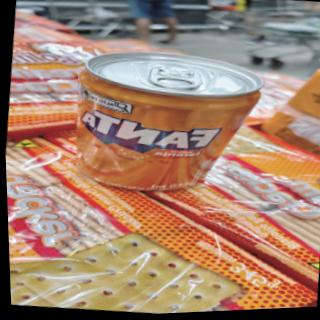beverage: (41, 33, 288, 211)
